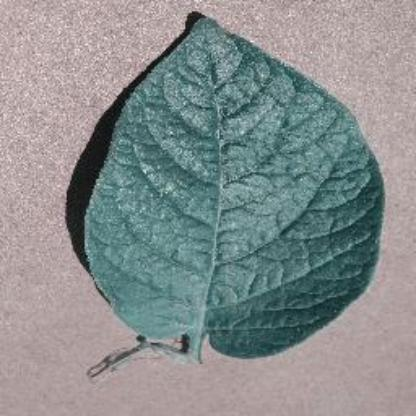Healthy-plant: (72, 11, 392, 377)
